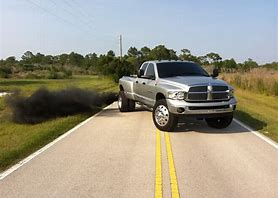smoke: (5, 85, 118, 125)
